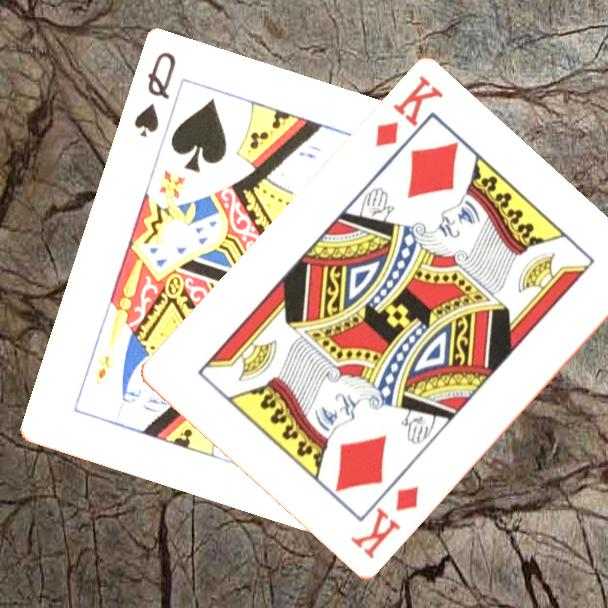d13: (346, 483, 422, 563), (371, 72, 446, 151)
s12: (131, 49, 179, 141)
